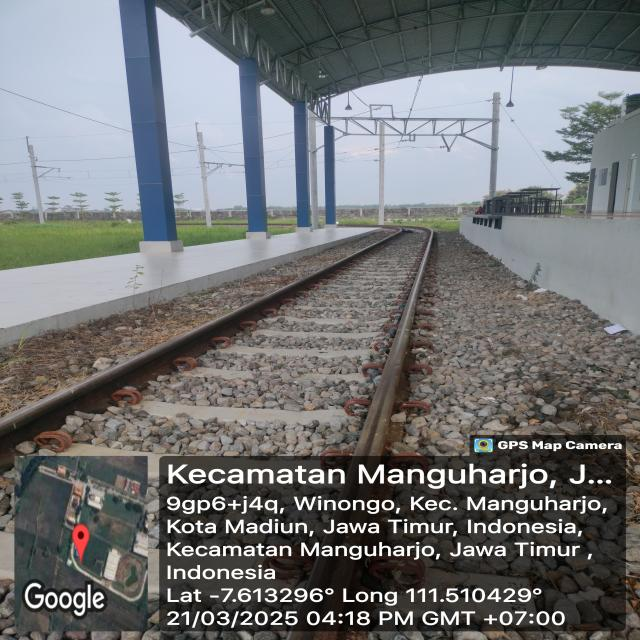rail-detection: (0, 227, 418, 467), (354, 227, 434, 456)
